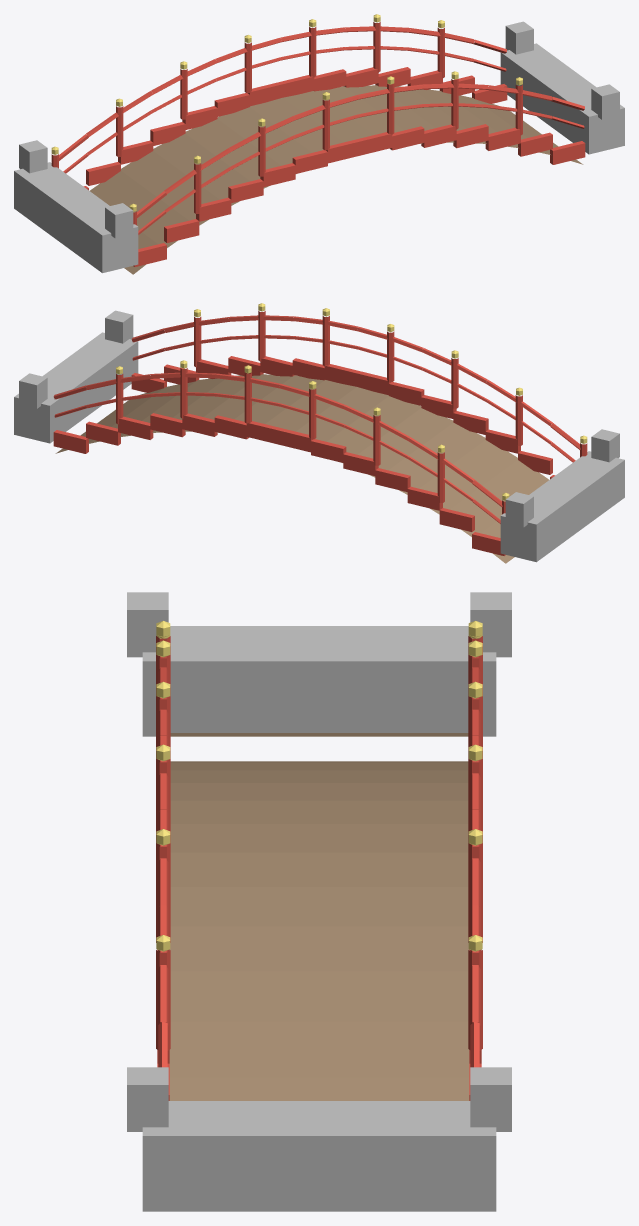
File: akagi_shrine_bridge.glb
3 views of the same model, one above another, from view 1: azimuth 30°, elevation 25°; view 2: azimuth 150°, elevation 25°; view 3: azimuth 270°, elevation 25° (orthographic). The views are drawn at different scales.
Parts seen in each view (by area): view 1: akagi_shrine_bridge; view 2: akagi_shrine_bridge; view 3: akagi_shrine_bridge.
Part boxes in pixels (bbox=[...]): akagi_shrine_bridge: bbox=[14, 14, 624, 274]; akagi_shrine_bridge: bbox=[14, 303, 624, 563]; akagi_shrine_bridge: bbox=[127, 592, 511, 1211].
Bounding box in the file's own units: 11.6 × 2.88 × 3.7.
